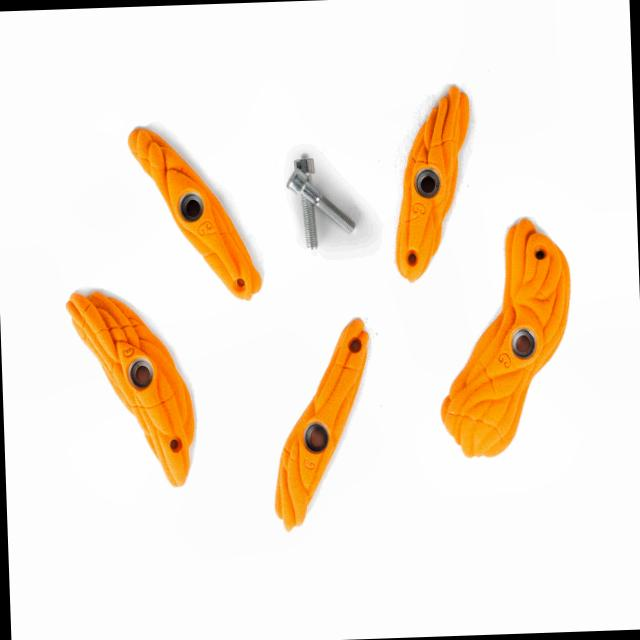Hold: (438, 216, 580, 467), (125, 121, 272, 308), (72, 293, 198, 487), (268, 320, 379, 531), (386, 87, 476, 284)
